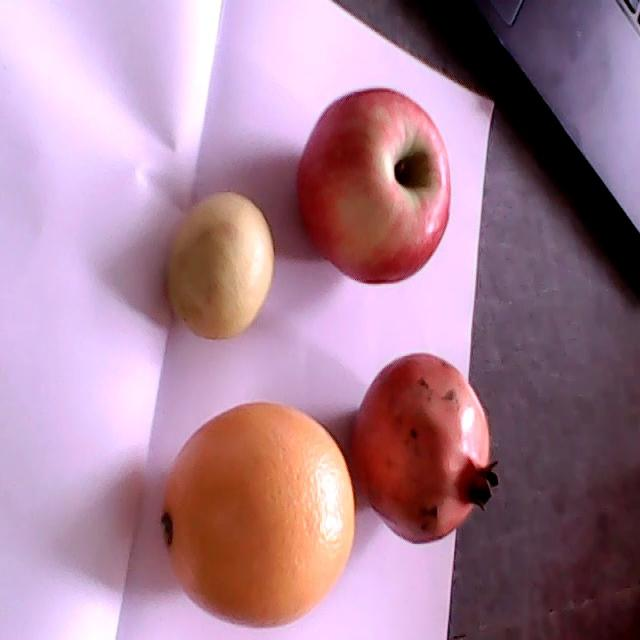apple: (296, 89, 450, 282)
lemon: (169, 190, 274, 339)
orange: (161, 400, 356, 629)
pomegranate: (353, 352, 505, 545)
